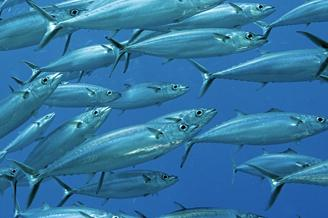Scombridae -Tunas-: (10, 119, 203, 211), (17, 0, 235, 47), (179, 103, 328, 167), (103, 25, 268, 82), (191, 45, 328, 99), (51, 162, 179, 205), (0, 67, 63, 153), (132, 208, 280, 218)
